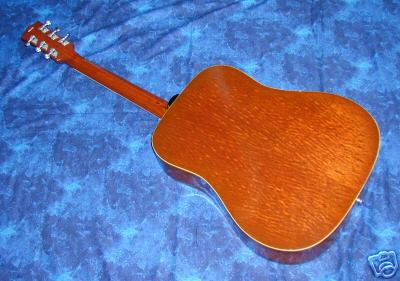guitar: (25, 22, 380, 263)
